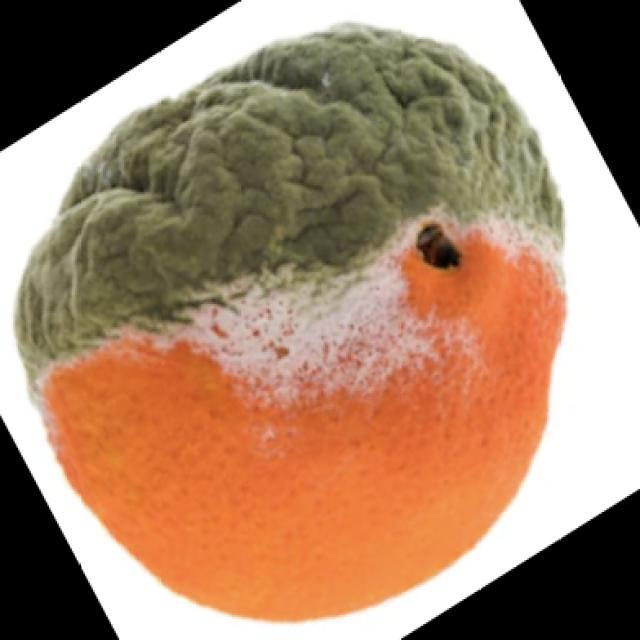sangat-busuk: (16, 24, 564, 619)
